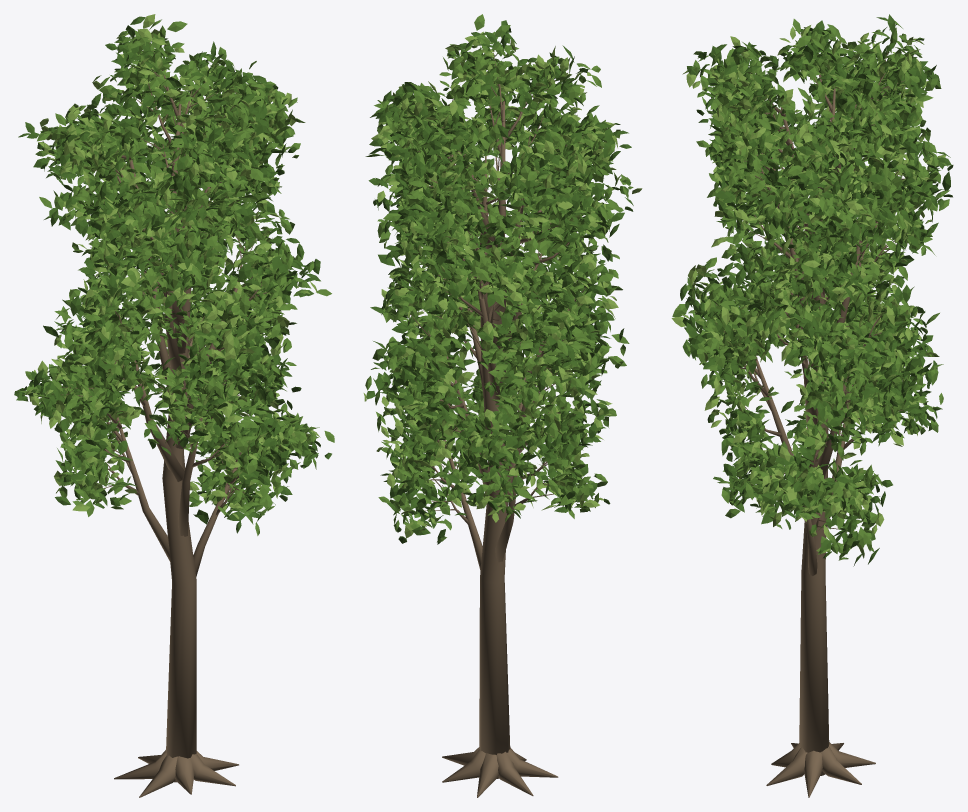
The model's file is SM_Tree_Columnar.fbx.
The picture shows the model from 3 angles, left to right: view 1: azimuth 30°, elevation 25°; view 2: azimuth 150°, elevation 25°; view 3: azimuth 270°, elevation 25°; orthographic projection. The views are drawn at different scales.
Parts seen in each view (by area): view 1: SM_Tree_Columnar; view 2: SM_Tree_Columnar; view 3: SM_Tree_Columnar.
Boxes of the visible parts, left/top/right/bottom form: SM_Tree_Columnar: left=14, top=14, right=334, bottom=797; SM_Tree_Columnar: left=363, top=14, right=642, bottom=797; SM_Tree_Columnar: left=671, top=14, right=953, bottom=797.
Bounding box in the file's own units: 300 × 273 × 800.
